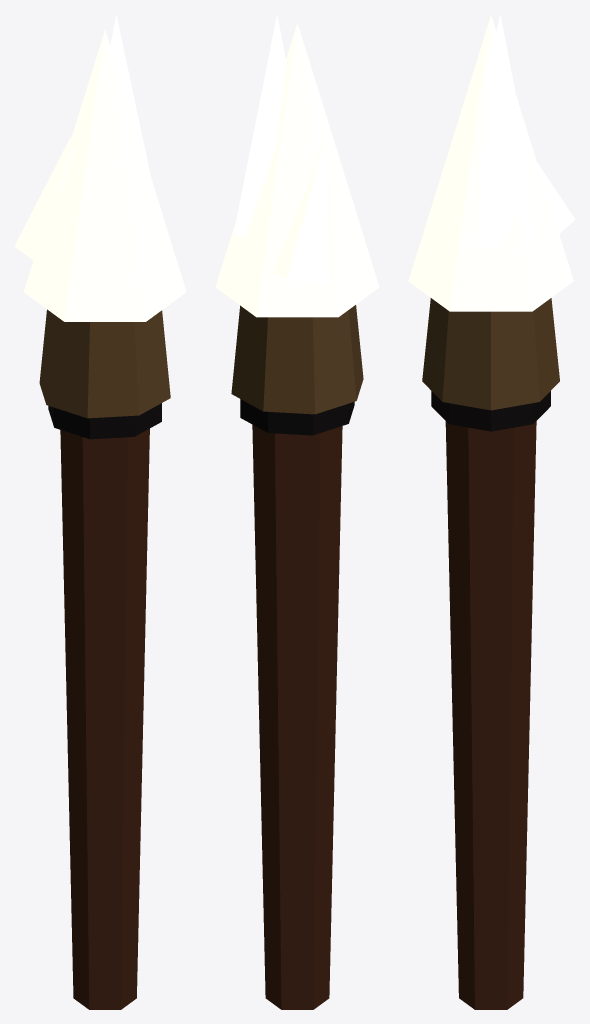
The model's file is hand_torch.glb.
3 renders of one model, left to right at view 1: azimuth 30°, elevation 25°; view 2: azimuth 150°, elevation 25°; view 3: azimuth 270°, elevation 25°, orthographic.
Visible parts, largest first — view 1: hand_torch, Flame.006; view 2: hand_torch, Flame.006; view 3: hand_torch, Flame.006.
Boxes of the visible parts, x1,y1,x2,y2 form: hand_torch: (39, 309, 170, 1009); Flame.006: (14, 15, 186, 321); hand_torch: (231, 305, 363, 1009); Flame.006: (215, 14, 379, 317); hand_torch: (422, 298, 559, 1009); Flame.006: (408, 15, 575, 311).
Size of the model in its own units: 0.156 by 1.19 by 0.1819.
